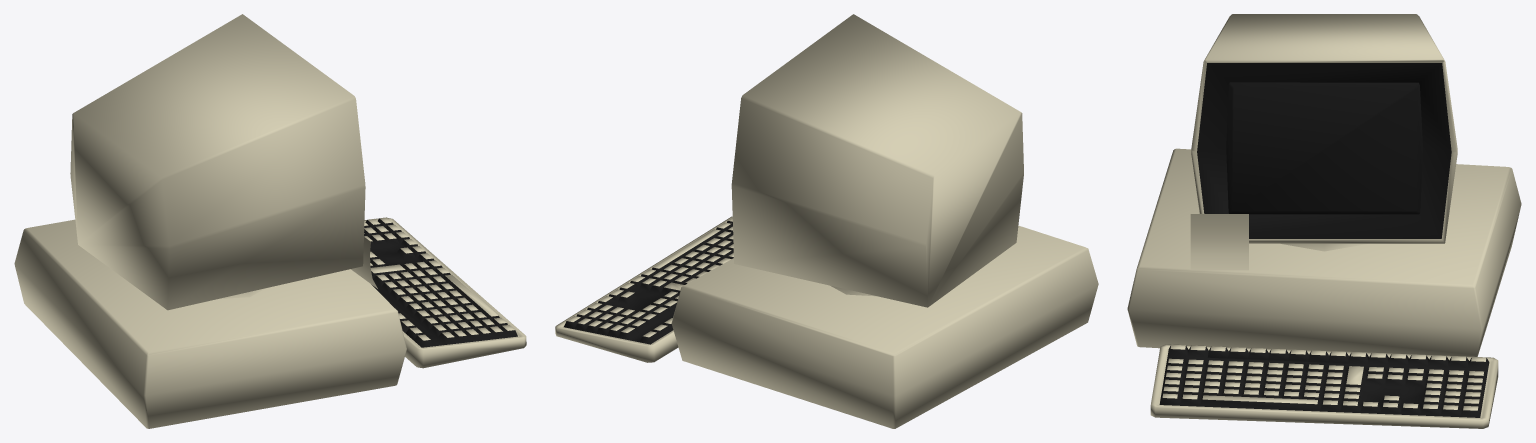
Rendered from Computer_with_note3.fbx.
3 views of the same model, side by side, from view 1: azimuth 30°, elevation 25°; view 2: azimuth 150°, elevation 25°; view 3: azimuth 270°, elevation 25° (orthographic). The views are drawn at different scales.
Parts seen in each view (by area): view 1: Plane; view 2: Plane; view 3: Plane.
Part boxes in pixels (x1,y1,x2,y2): Plane: (14,14,526,428); Plane: (555,14,1098,428); Plane: (1127,14,1521,428).
Size of the model in its own units: 79.83 by 51.18 by 64.75.
